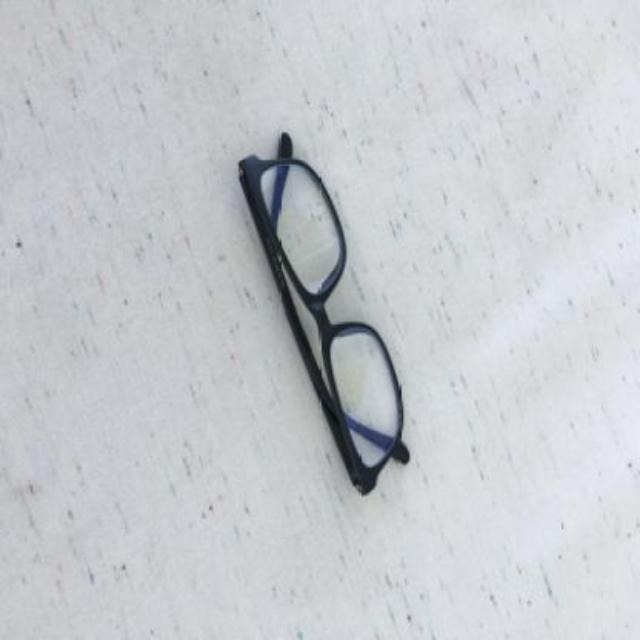mask: (236, 134, 409, 496)
